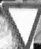Give way: (0, 1, 38, 46)
